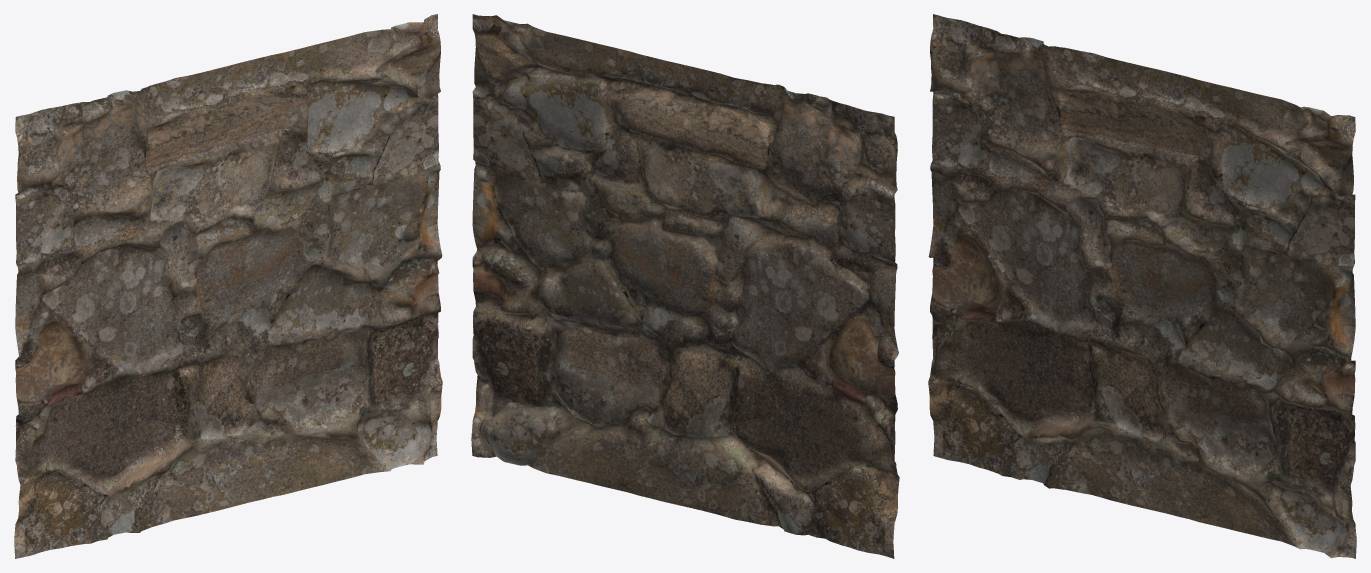
File: 2x2stonewall.fbx
The picture shows the model from 3 angles, left to right: view 1: azimuth 30°, elevation 25°; view 2: azimuth 150°, elevation 25°; view 3: azimuth 330°, elevation 25°; orthographic projection.
Visible parts, largest first — view 1: stone wall; view 2: stone wall; view 3: stone wall.
Boxes of the visible parts, x1=… form: stone wall: x1=14, y1=14, x2=442, y2=558; stone wall: x1=471, y1=14, x2=899, y2=558; stone wall: x1=928, y1=14, x2=1356, y2=558.
Size of the model in its own units: 200 by 200 by 6.93.
